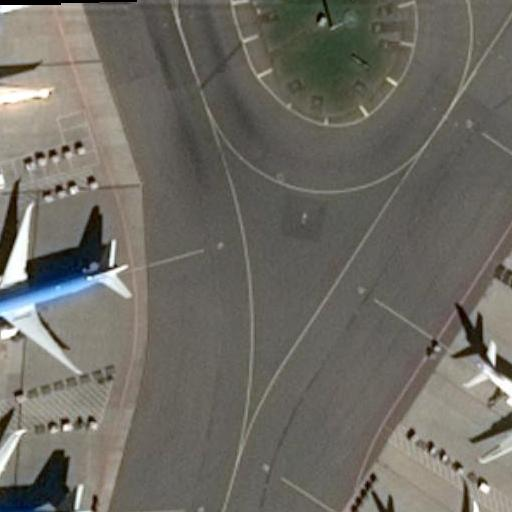Aircraft: (0, 196, 130, 379), (444, 315, 512, 464), (0, 414, 94, 512), (0, 0, 53, 173), (360, 490, 512, 512)
